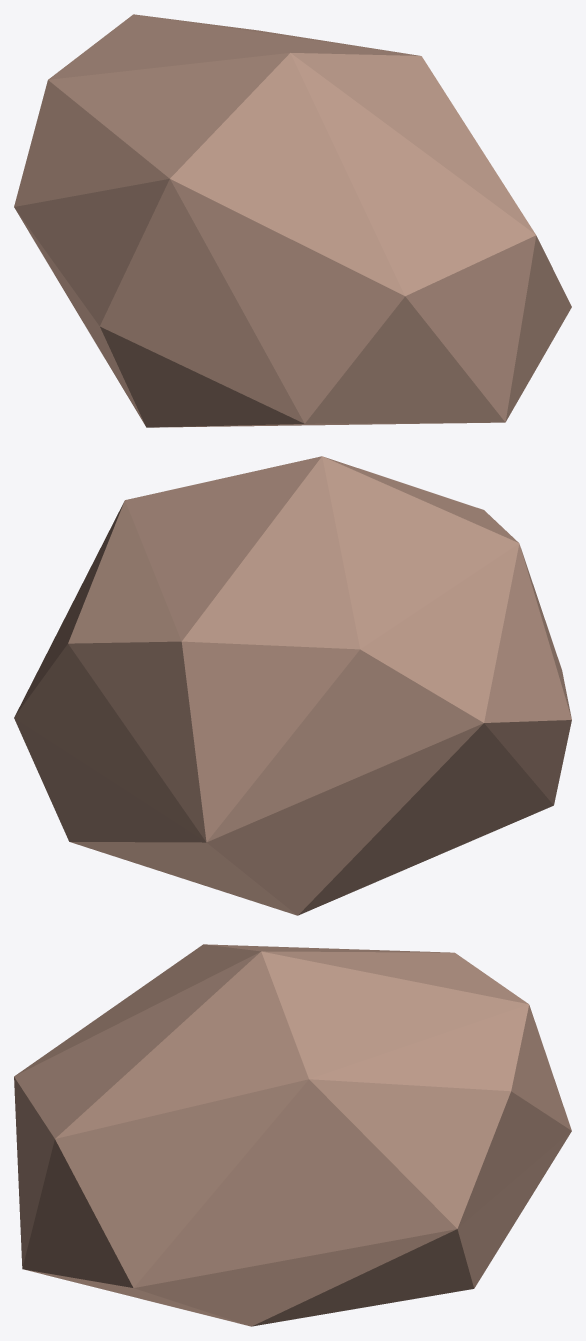
3 views of the same model, one above another, from view 1: azimuth 30°, elevation 25°; view 2: azimuth 150°, elevation 25°; view 3: azimuth 270°, elevation 25° (orthographic). The views are drawn at different scales.
Parts seen in each view (by area): view 1: Rock; view 2: Rock; view 3: Rock.
Part boxes in pixels (box(x1,y1,x2,y2)): Rock: box(14, 14, 571, 427); Rock: box(14, 456, 571, 915); Rock: box(14, 944, 571, 1326).
Bounding box in the file's own units: 2.14 × 1.5 × 2.6.
